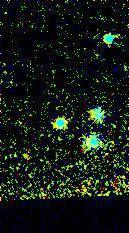star: (14, 141, 44, 171)
